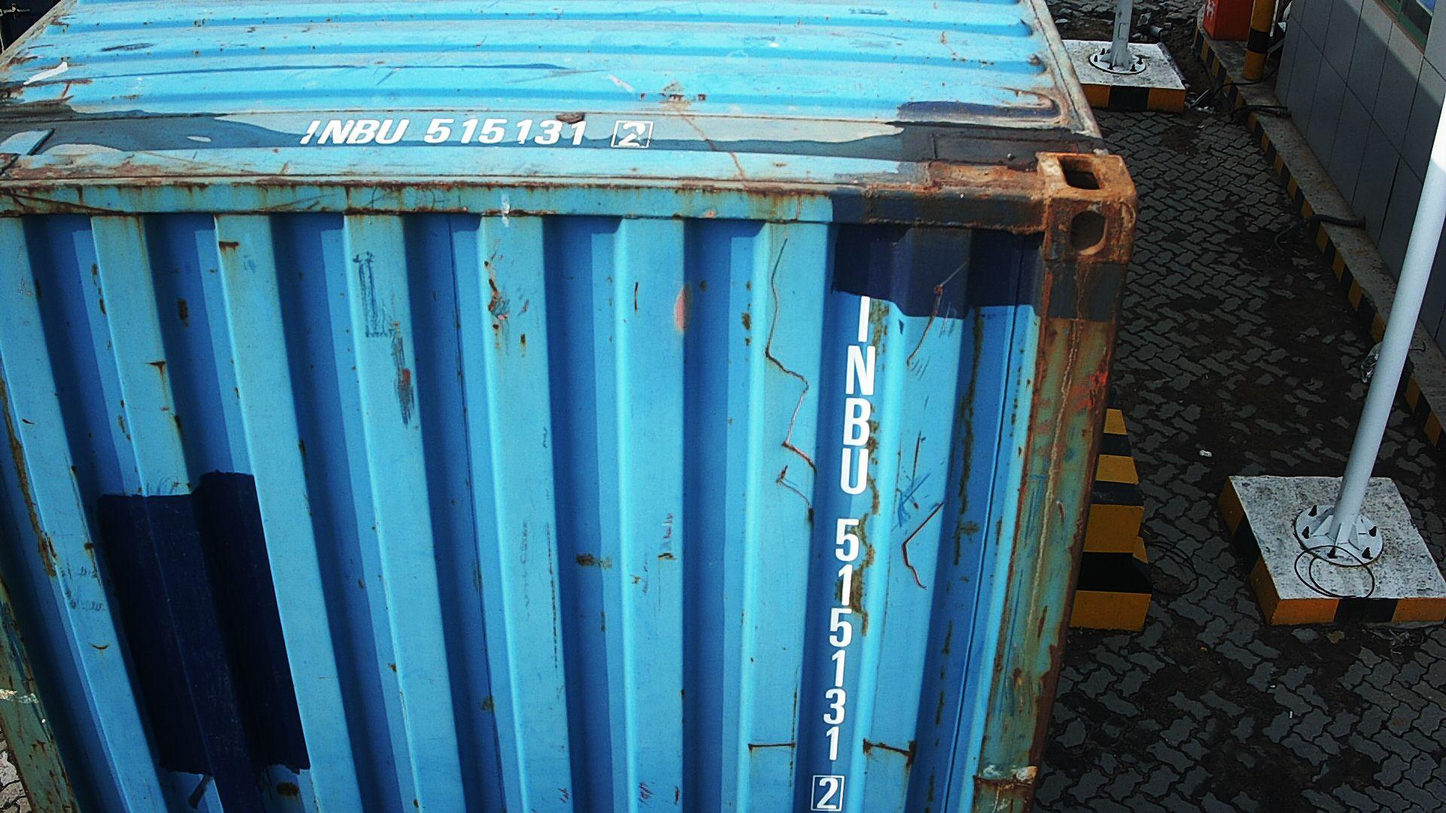container-numbers: (806, 285, 883, 813), (292, 112, 660, 151)
